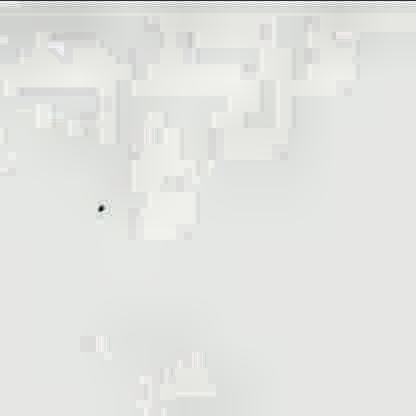golfball: (93, 204, 104, 211)
